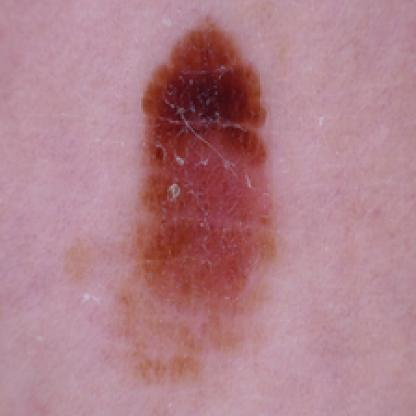Skin_Cancer-Malignant: (126, 0, 282, 399)
